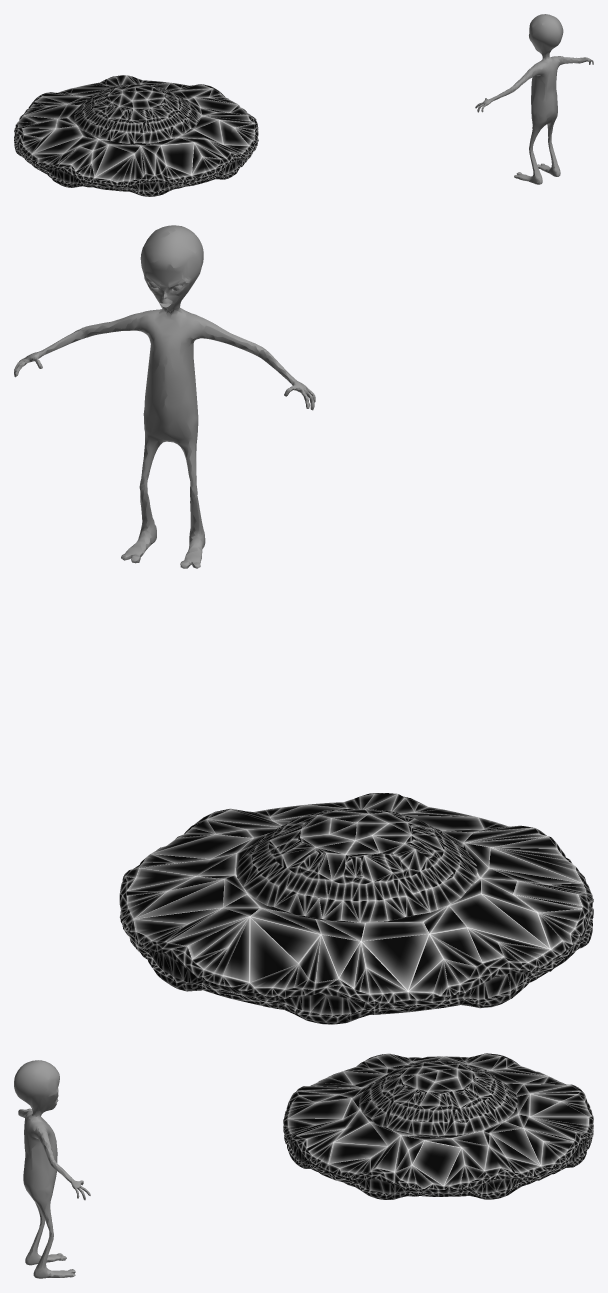
File: frame_047.obj
3 renders of one model, top to bottom at view 1: azimuth 30°, elevation 25°; view 2: azimuth 150°, elevation 25°; view 3: azimuth 270°, elevation 25°, orthographic. The views are drawn at different scales.
Parts seen in each view (by area): view 1: 13884_UFO_Saucer_v1_l2, 10469_GrayAlien_v01; view 2: 13884_UFO_Saucer_v1_l2, 10469_GrayAlien_v01; view 3: 13884_UFO_Saucer_v1_l2, 10469_GrayAlien_v01.
Part boxes in pixels (left/top/right/bottom): 13884_UFO_Saucer_v1_l2: left=14, top=75, right=258, bottom=196; 10469_GrayAlien_v01: left=475, top=14, right=593, bottom=184; 13884_UFO_Saucer_v1_l2: left=119, top=793, right=593, bottom=1024; 10469_GrayAlien_v01: left=14, top=225, right=315, bottom=568; 13884_UFO_Saucer_v1_l2: left=283, top=1053, right=593, bottom=1199; 10469_GrayAlien_v01: left=14, top=1060, right=90, bottom=1278.
Bounding box in the file's own units: 25.34 × 12.34 × 23.68.
